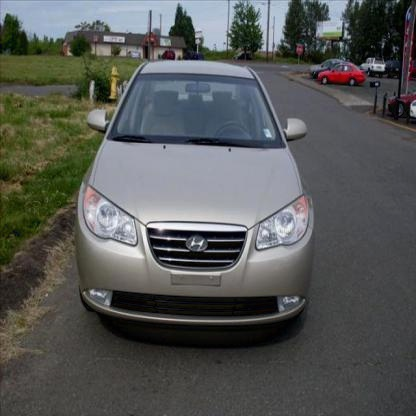Vehicle: (75, 60, 318, 335)
